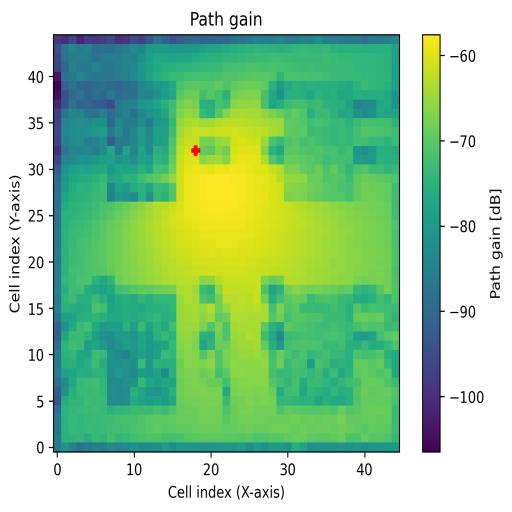Concrete: (284, 82, 354, 202)
Glass: (108, 82, 176, 201)
Metal: (277, 296, 354, 406)
Wood: (107, 293, 177, 406)
